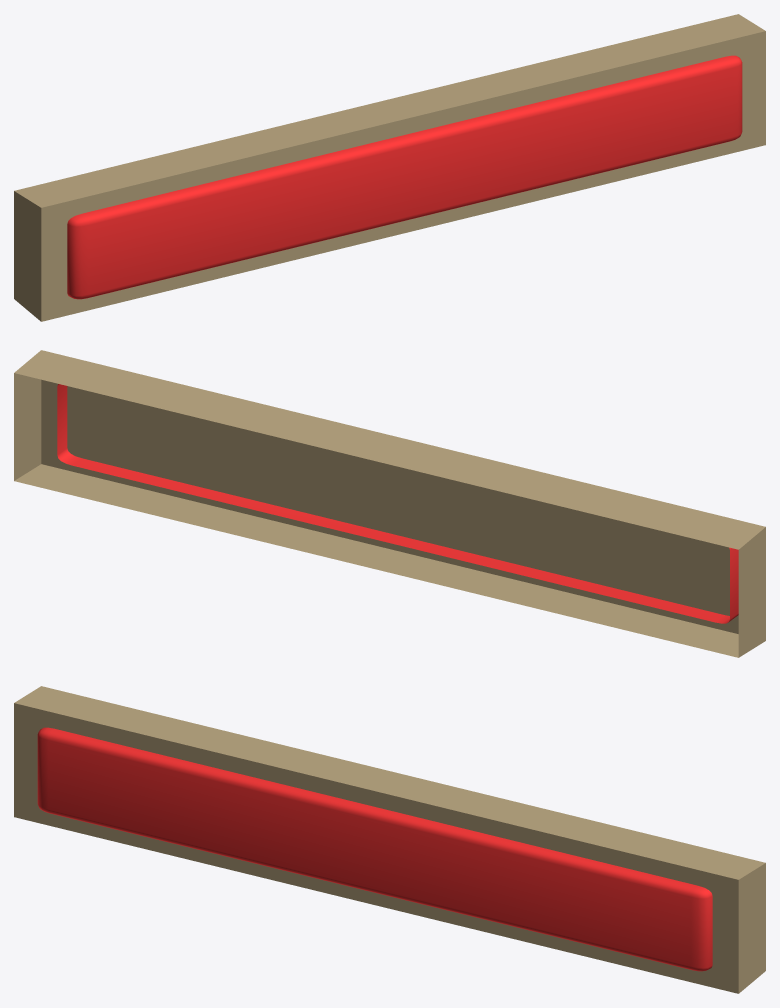
Rendered from Lamp.fbx.
3 renders of one model, top to bottom at view 1: azimuth 30°, elevation 25°; view 2: azimuth 150°, elevation 25°; view 3: azimuth 330°, elevation 25°, orthographic.
Parts seen in each view (by area): view 1: Lamp; view 2: Lamp; view 3: Lamp.
Part boxes in pixels (bbox=[...]): Lamp: bbox=[14, 14, 765, 321]; Lamp: bbox=[14, 350, 765, 657]; Lamp: bbox=[14, 686, 765, 993].
Bounding box in the file's own units: 2415 × 363 × 196.
